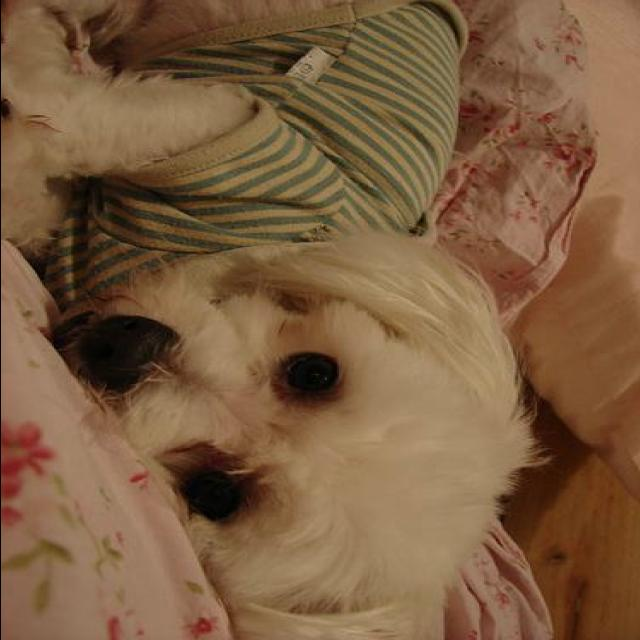maltese_dog: (2, 1, 550, 640)
